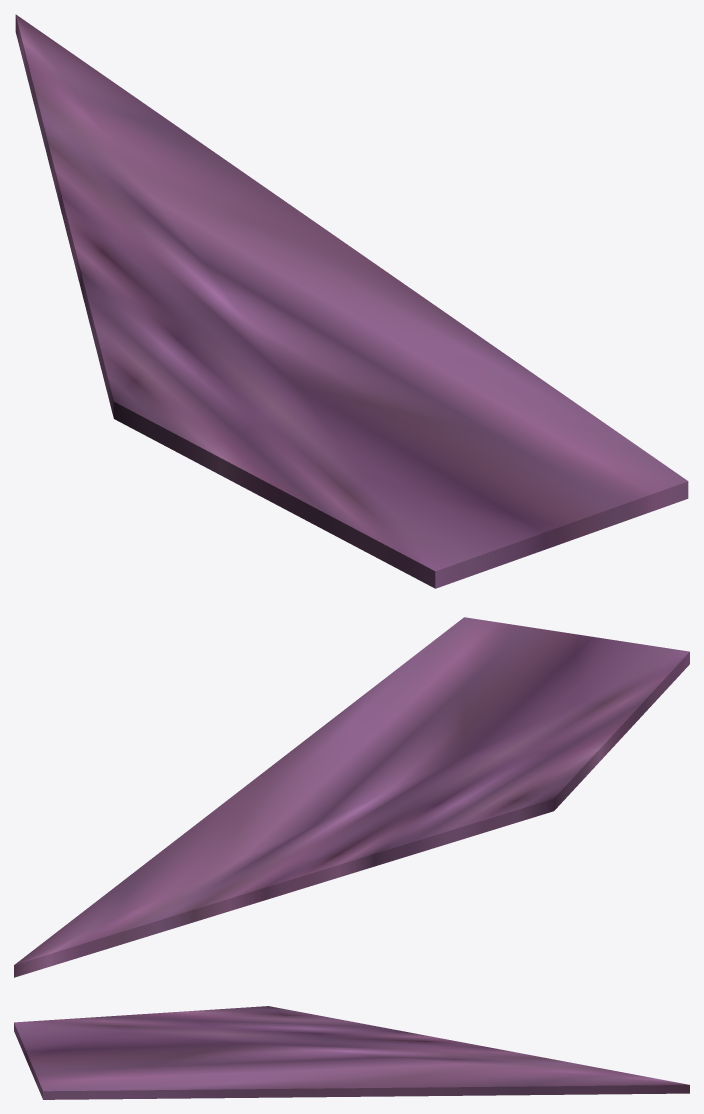
The model's file is Piece2.glb.
3 renders of one model, top to bottom at view 1: azimuth 30°, elevation 25°; view 2: azimuth 150°, elevation 25°; view 3: azimuth 270°, elevation 25°, orthographic. The views are drawn at different scales.
Visible parts, largest first — view 1: Piece2; view 2: Piece2; view 3: Piece2.
Part boxes in pixels (x1,y1,x2,y2): Piece2: (15,14,688,588); Piece2: (14,617,689,977); Piece2: (14,1006,689,1099).
Bounding box in the file's own units: 42.05 × 2 × 141.
1 material, 1 textured.
